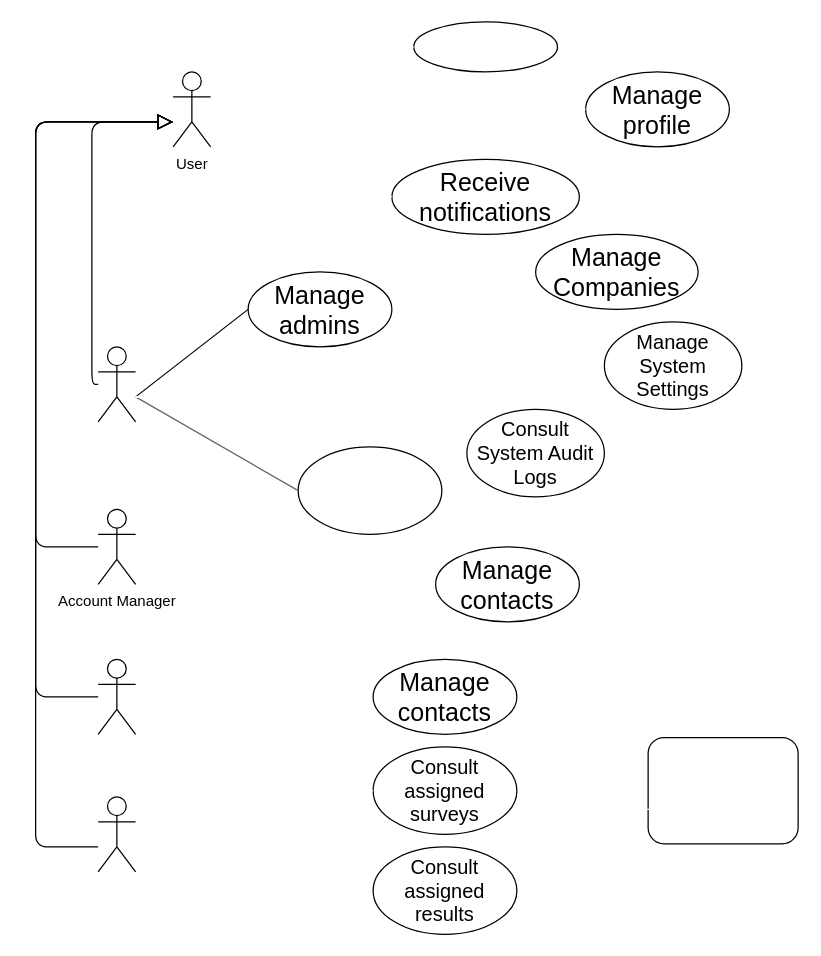
The diagram is 821 pixels wide and 956 high, and some of its shapes have lost their labels. The shapes that lost their labels are listed below. From the top down, each one's centre as x and y in pixels, then its label:
the point at 485,46: Login
the point at 116,384: System Admin
the point at 369,490: Manage Locked accounts
the point at 116,696: Survey Manager
the point at 722,790: <<actor>> Questionnaire Platform
the point at 116,834: Contact
